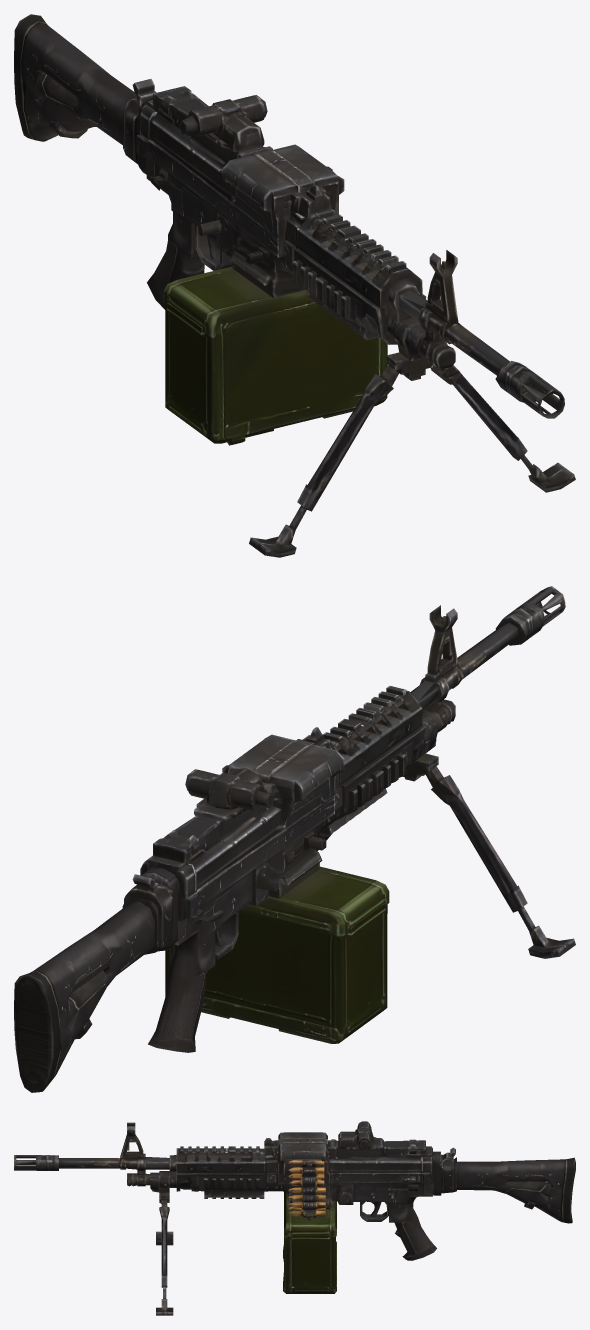
File: base_basic_pbr.glb
The picture shows the model from 3 angles, top to bottom: view 1: azimuth 30°, elevation 25°; view 2: azimuth 150°, elevation 25°; view 3: azimuth 270°, elevation 25°; orthographic projection. The views are drawn at different scales.
Parts seen in each view (by area): view 1: model; view 2: model; view 3: model.
Boxes of the visible parts, left/top/right/bottom form: model: left=14, top=14, right=575, bottom=557; model: left=14, top=586, right=575, bottom=1092; model: left=14, top=1121, right=575, bottom=1315.
Size of the model in its own units: 0.568 by 0.5 by 1.66.
1 material, 1 textured.
